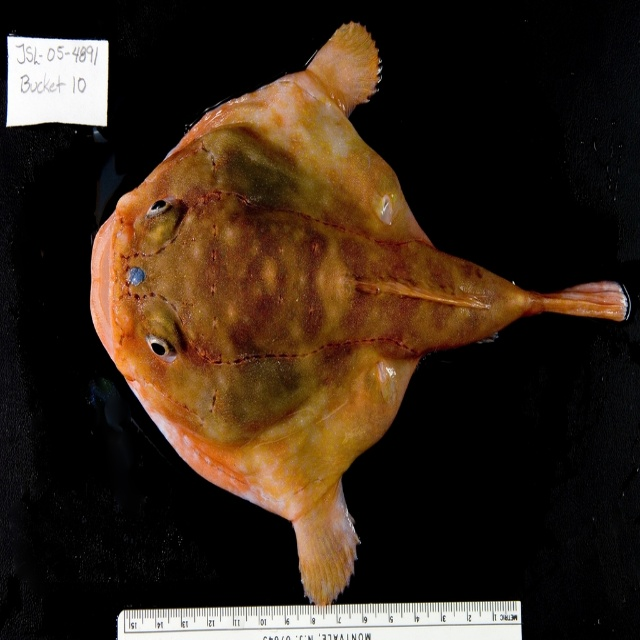Fish: (89, 27, 630, 606)
